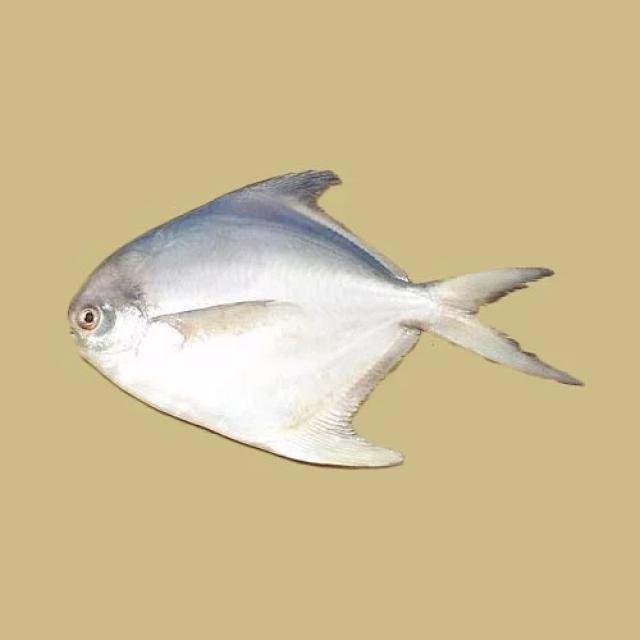pomfred: (68, 172, 585, 467)
